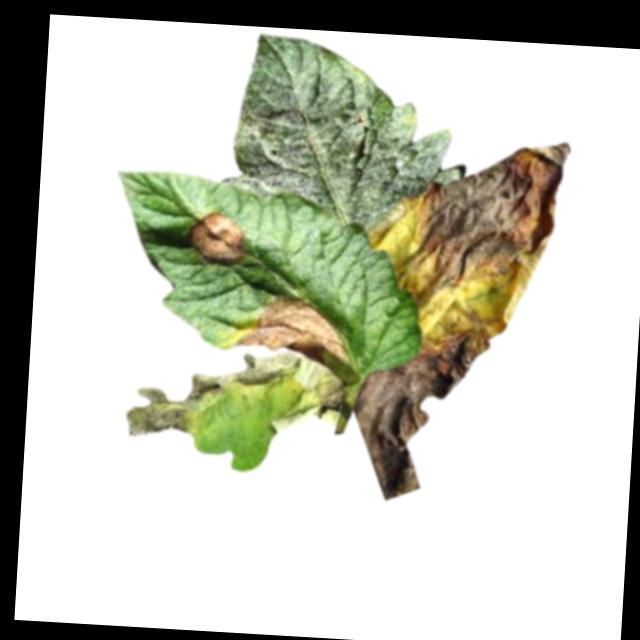Late_blight: (398, 131, 580, 300), (346, 322, 500, 506), (123, 342, 348, 451), (234, 291, 361, 363), (188, 210, 252, 269)
healthy: (218, 30, 467, 233)
